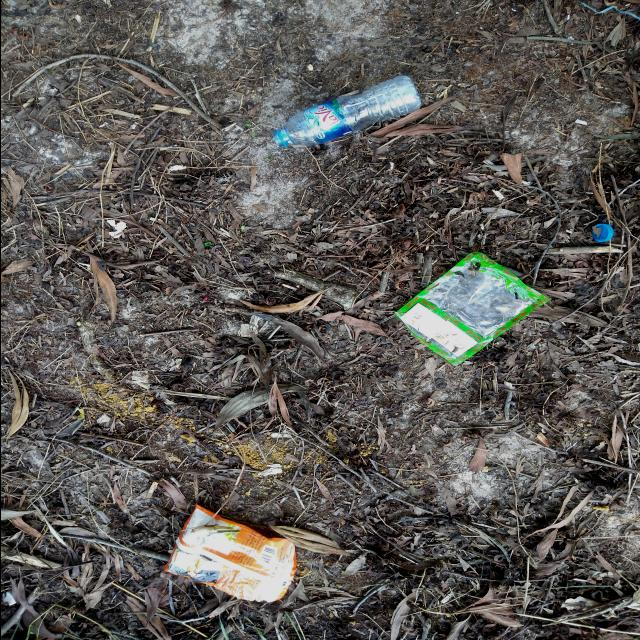Clear plastic bottle: (271, 76, 421, 147)
Other plastic: (392, 251, 550, 366), (163, 504, 296, 603)
Plastic bottle cap: (592, 224, 612, 242), (2, 590, 15, 606)
Unlabeled litter: (578, 3, 639, 20)
